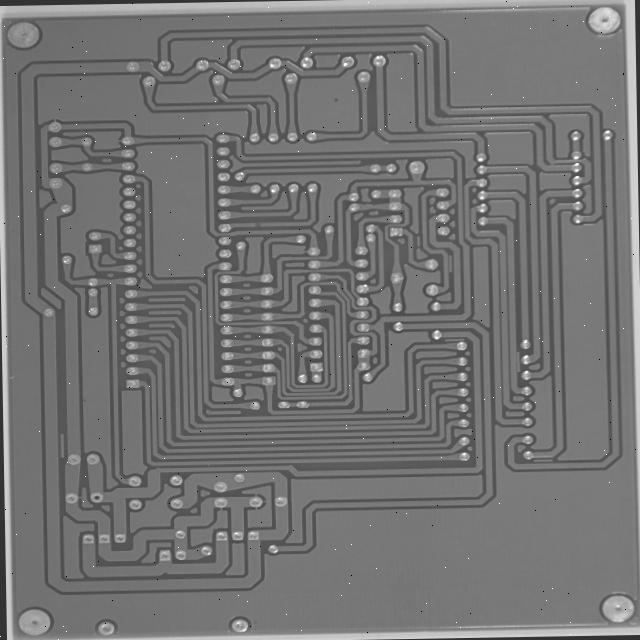spurious_copper: (54, 430, 69, 461), (512, 348, 525, 373), (529, 454, 556, 465), (443, 252, 456, 274), (413, 233, 421, 248)
